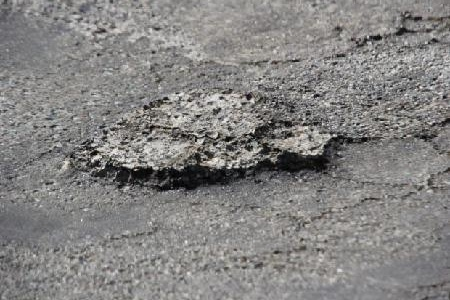pothole: (66, 85, 351, 195)
